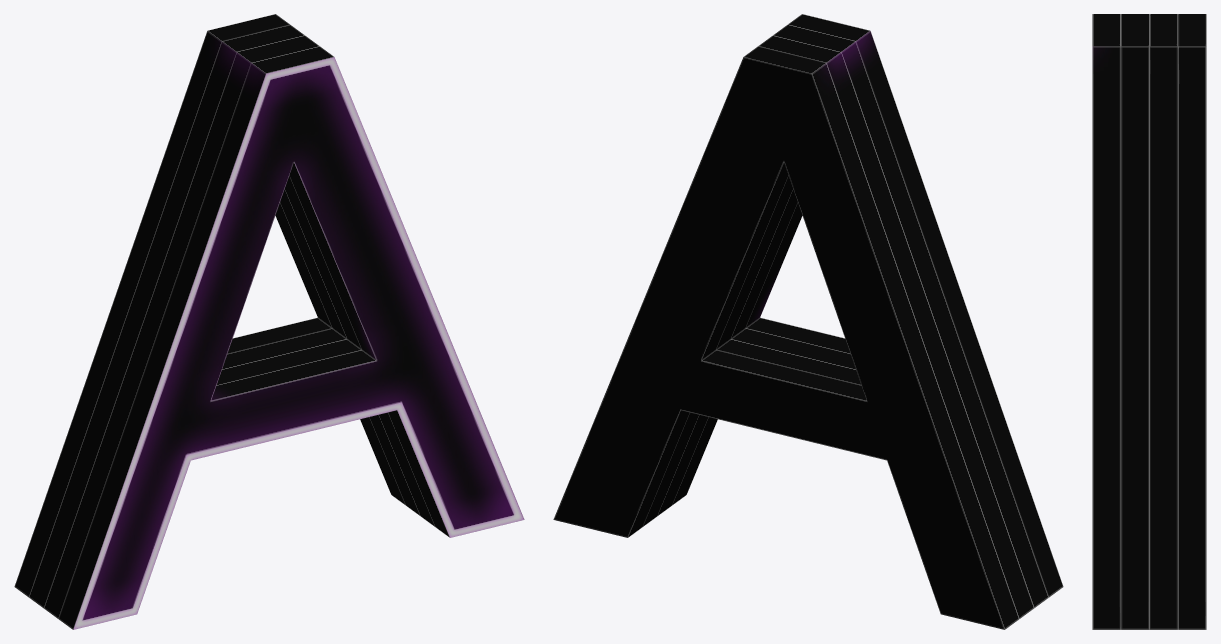
File: jeyy.fbx
3 views of the same model, side by side, from view 1: azimuth 30°, elevation 25°; view 2: azimuth 150°, elevation 25°; view 3: azimuth 270°, elevation 25° (orthographic). The views are drawn at different scales.
Visible parts, largest first — view 1: typeMesh1; view 2: typeMesh1; view 3: typeMesh1.
Part boxes in pixels (left/top/right/bottom): typeMesh1: left=14, top=14, right=524, bottom=629; typeMesh1: left=553, top=14, right=1063, bottom=629; typeMesh1: left=1092, top=14, right=1206, bottom=629.
Bounding box in the file's own units: 11.08 × 11.94 × 2.5.
1 material, 1 textured.
